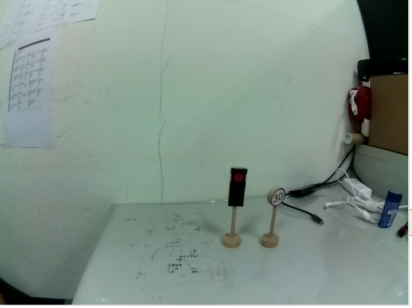Red: (228, 165, 247, 208)
Speed30: (268, 186, 286, 207)
